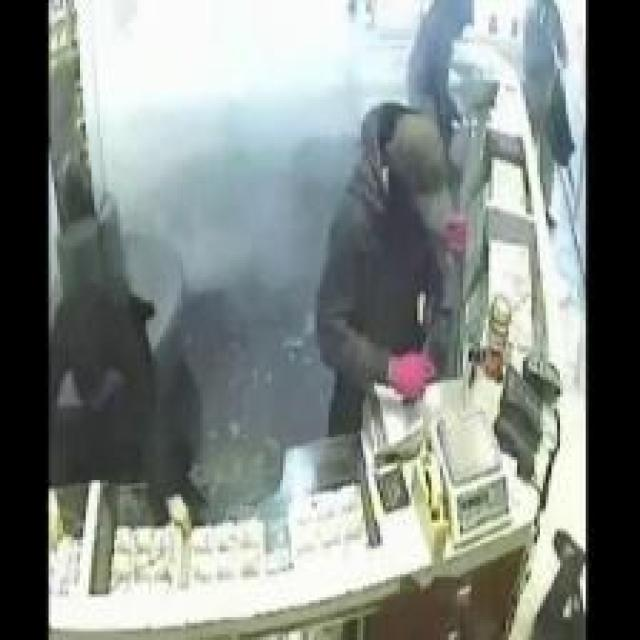fire: (78, 0, 373, 289)
